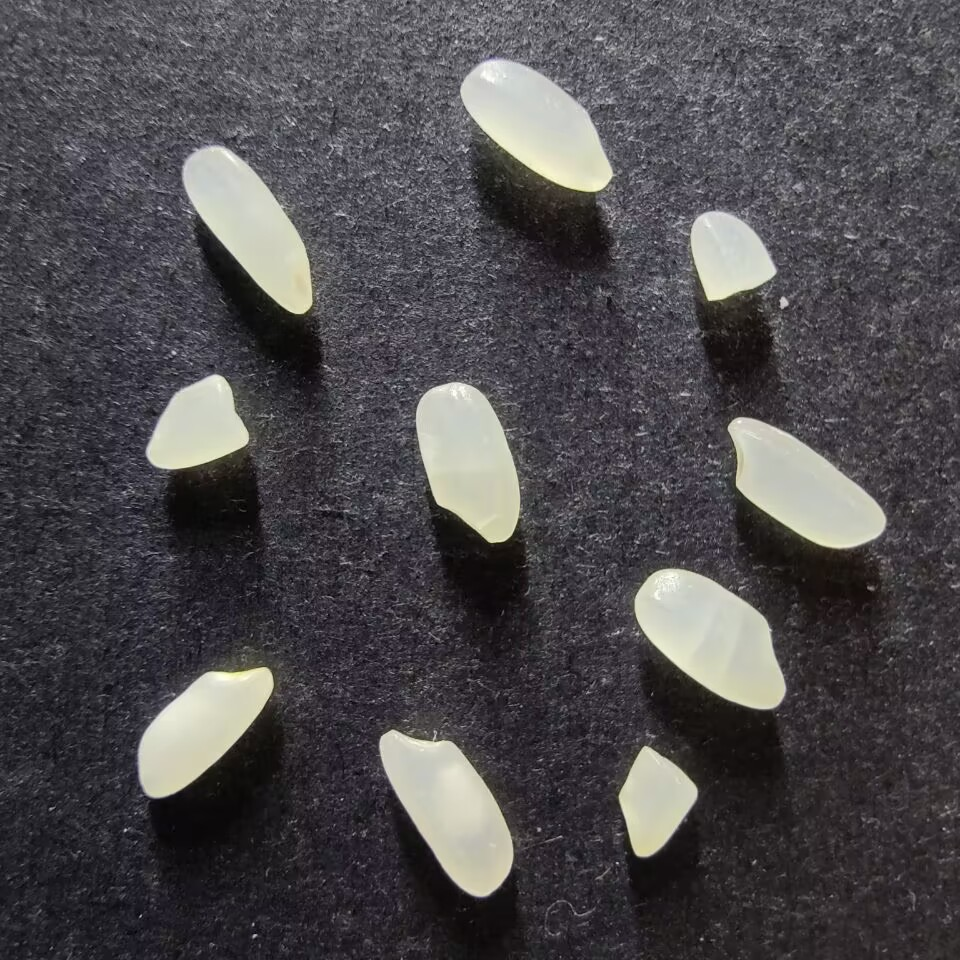broken: (144, 375, 249, 469), (617, 744, 698, 857), (689, 210, 776, 301)
rice: (378, 728, 515, 899), (181, 146, 313, 316), (633, 567, 787, 711), (726, 416, 886, 549), (459, 59, 614, 193), (136, 666, 275, 798), (414, 381, 520, 544)
